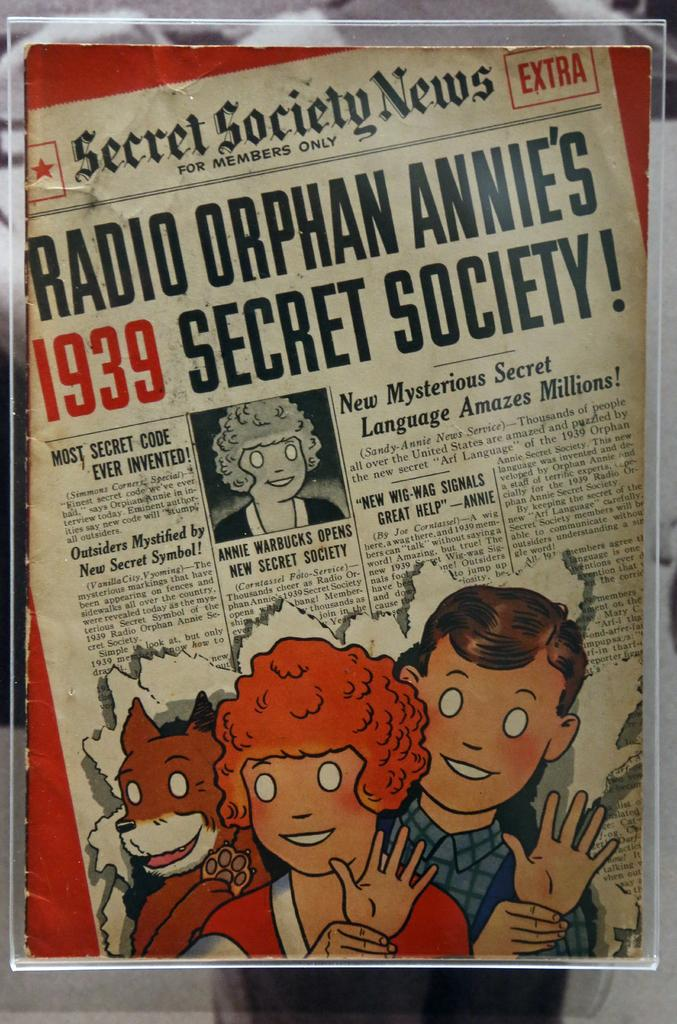book: (5, 35, 640, 966)
